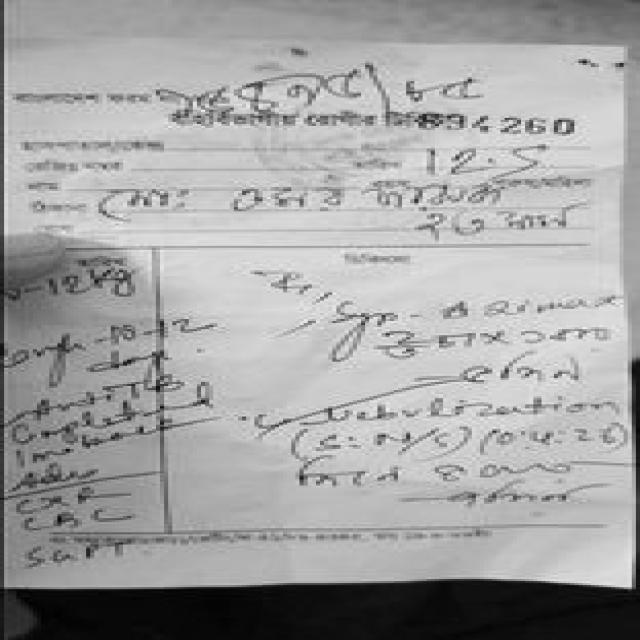Zimax: (461, 286, 626, 331)
